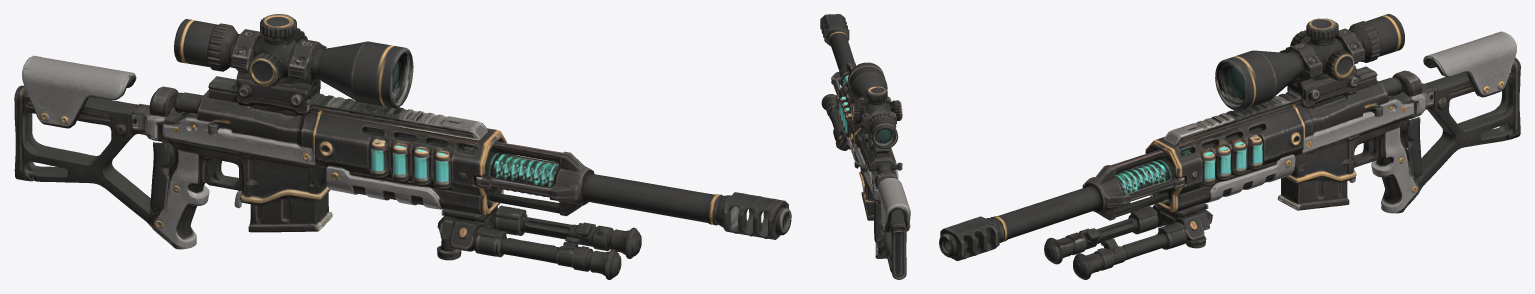
File: sniper.glb
3 views of the same model, side by side, from view 1: azimuth 30°, elevation 25°; view 2: azimuth 150°, elevation 25°; view 3: azimuth 270°, elevation 25° (orthographic). The views are drawn at different scales.
Parts seen in each view (by area): view 1: tripo_node_2e99ef66-eb6d-4268-902d-d2de4879af9c; view 2: tripo_node_2e99ef66-eb6d-4268-902d-d2de4879af9c; view 3: tripo_node_2e99ef66-eb6d-4268-902d-d2de4879af9c.
Boxes of the visible parts, x1,y1,x2,y2 form: tripo_node_2e99ef66-eb6d-4268-902d-d2de4879af9c: [14, 14, 791, 279]; tripo_node_2e99ef66-eb6d-4268-902d-d2de4879af9c: [820, 14, 910, 279]; tripo_node_2e99ef66-eb6d-4268-902d-d2de4879af9c: [939, 14, 1520, 279].
Bounding box in the file's own units: 0.6264 × 0.3122 × 0.7893.
Materials: 1 (1 with a texture image).
